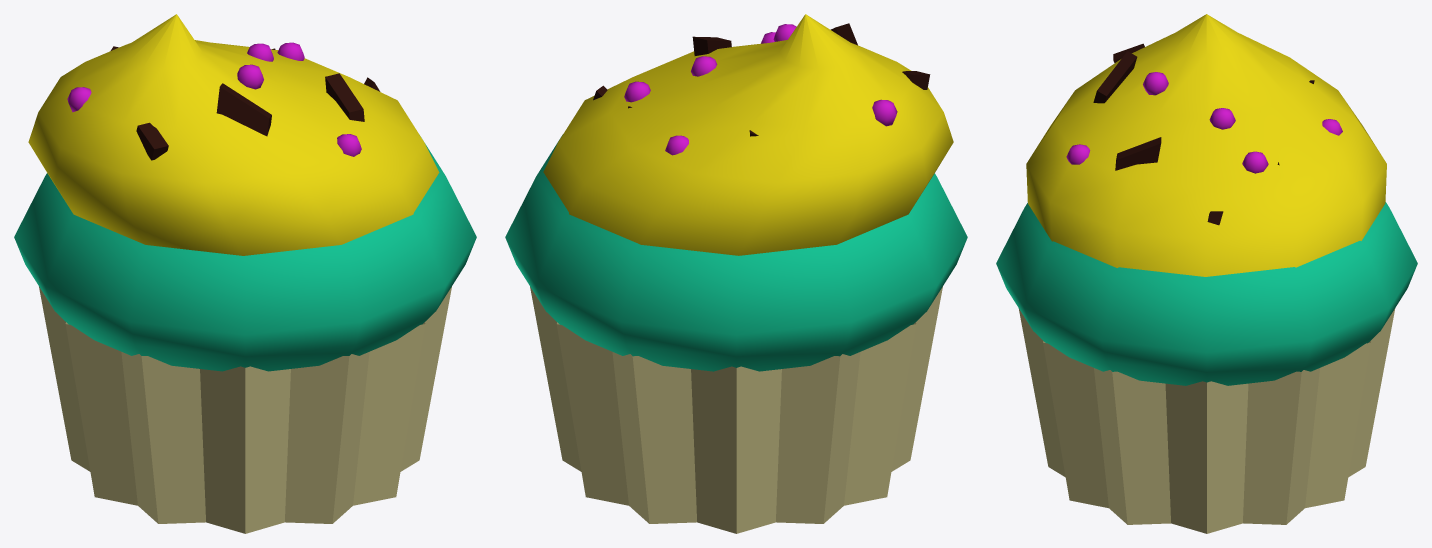
File: CupCake.FBX
The picture shows the model from 3 angles, left to right: view 1: azimuth 30°, elevation 25°; view 2: azimuth 150°, elevation 25°; view 3: azimuth 270°, elevation 25°; orthographic projection. The views are drawn at different scales.
Parts seen in each view (by area): view 1: Cone001, CupCake, Sphere001, Box211, Sphere007; view 2: Cone001, CupCake, Sphere001, Sphere007, Box211; view 3: Cone001, CupCake, Sphere001, Box211, Sphere007.
Boxes of the visible parts, x1=… form: Cone001: x1=28, y1=14, x2=439, y2=255; CupCake: x1=39, y1=287, x2=451, y2=533; Sphere001: x1=14, y1=137, x2=476, y2=371; Box211: x1=110, y1=46, x2=380, y2=160; Sphere007: x1=67, y1=42, x2=361, y2=156; Cone001: x1=543, y1=14, x2=953, y2=255; CupCake: x1=530, y1=286, x2=942, y2=533; Sphere001: x1=505, y1=135, x2=967, y2=371; Sphere007: x1=624, y1=24, x2=897, y2=155; Box211: x1=593, y1=23, x2=930, y2=136; Cone001: x1=1026, y1=14, x2=1386, y2=276; CupCake: x1=1018, y1=308, x2=1395, y2=533; Sphere001: x1=996, y1=202, x2=1417, y2=385; Box211: x1=1093, y1=43, x2=1314, y2=225; Sphere007: x1=1066, y1=72, x2=1342, y2=173.
Bounding box in the file's own units: 0.5441 × 0.601 × 0.5441.
